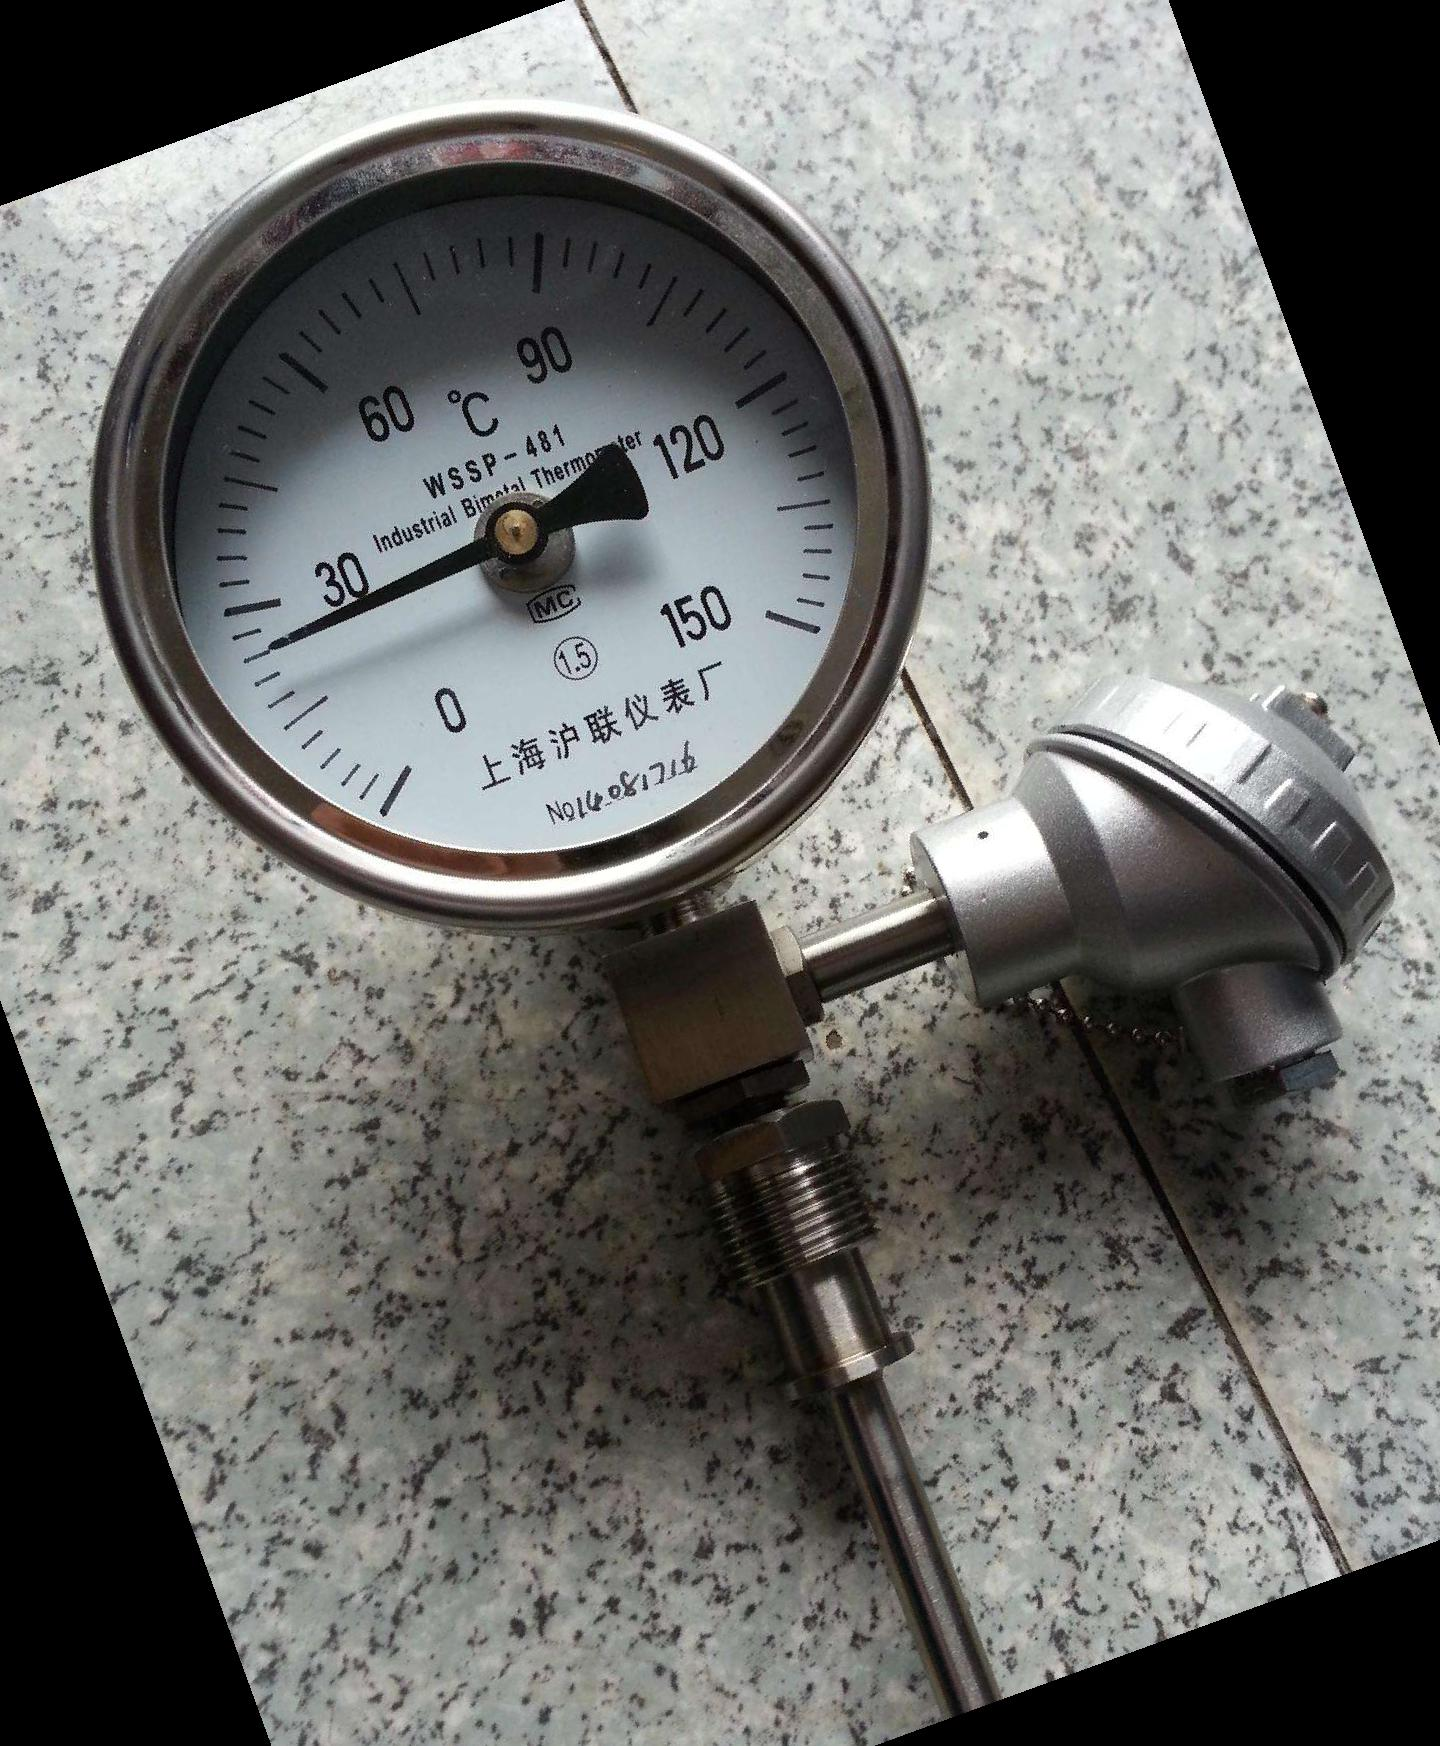pointer: (120, 164, 887, 882)
